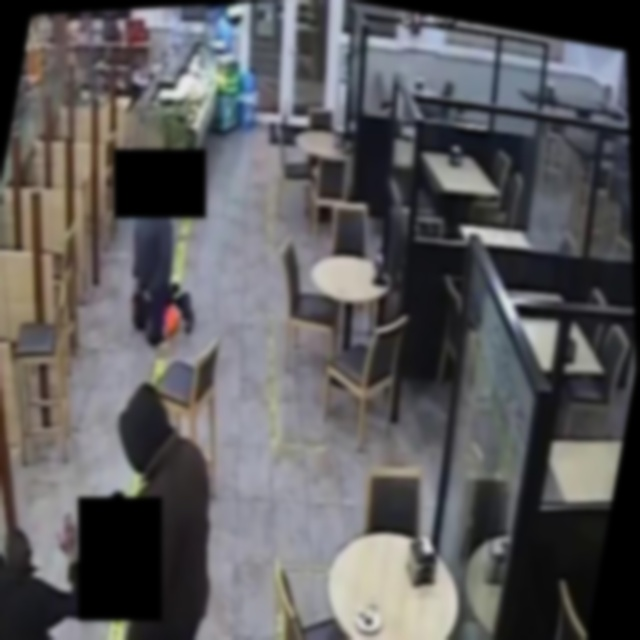gun: (67, 467, 146, 555)
